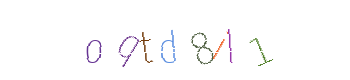1: (185, 0, 265, 80)
8: (138, 0, 218, 80)
D: (134, 0, 214, 80)
I: (141, 0, 221, 80)
L: (179, 0, 259, 80)
O: (97, 0, 177, 80)
Q: (105, 0, 185, 80)
T: (126, 0, 206, 80)
